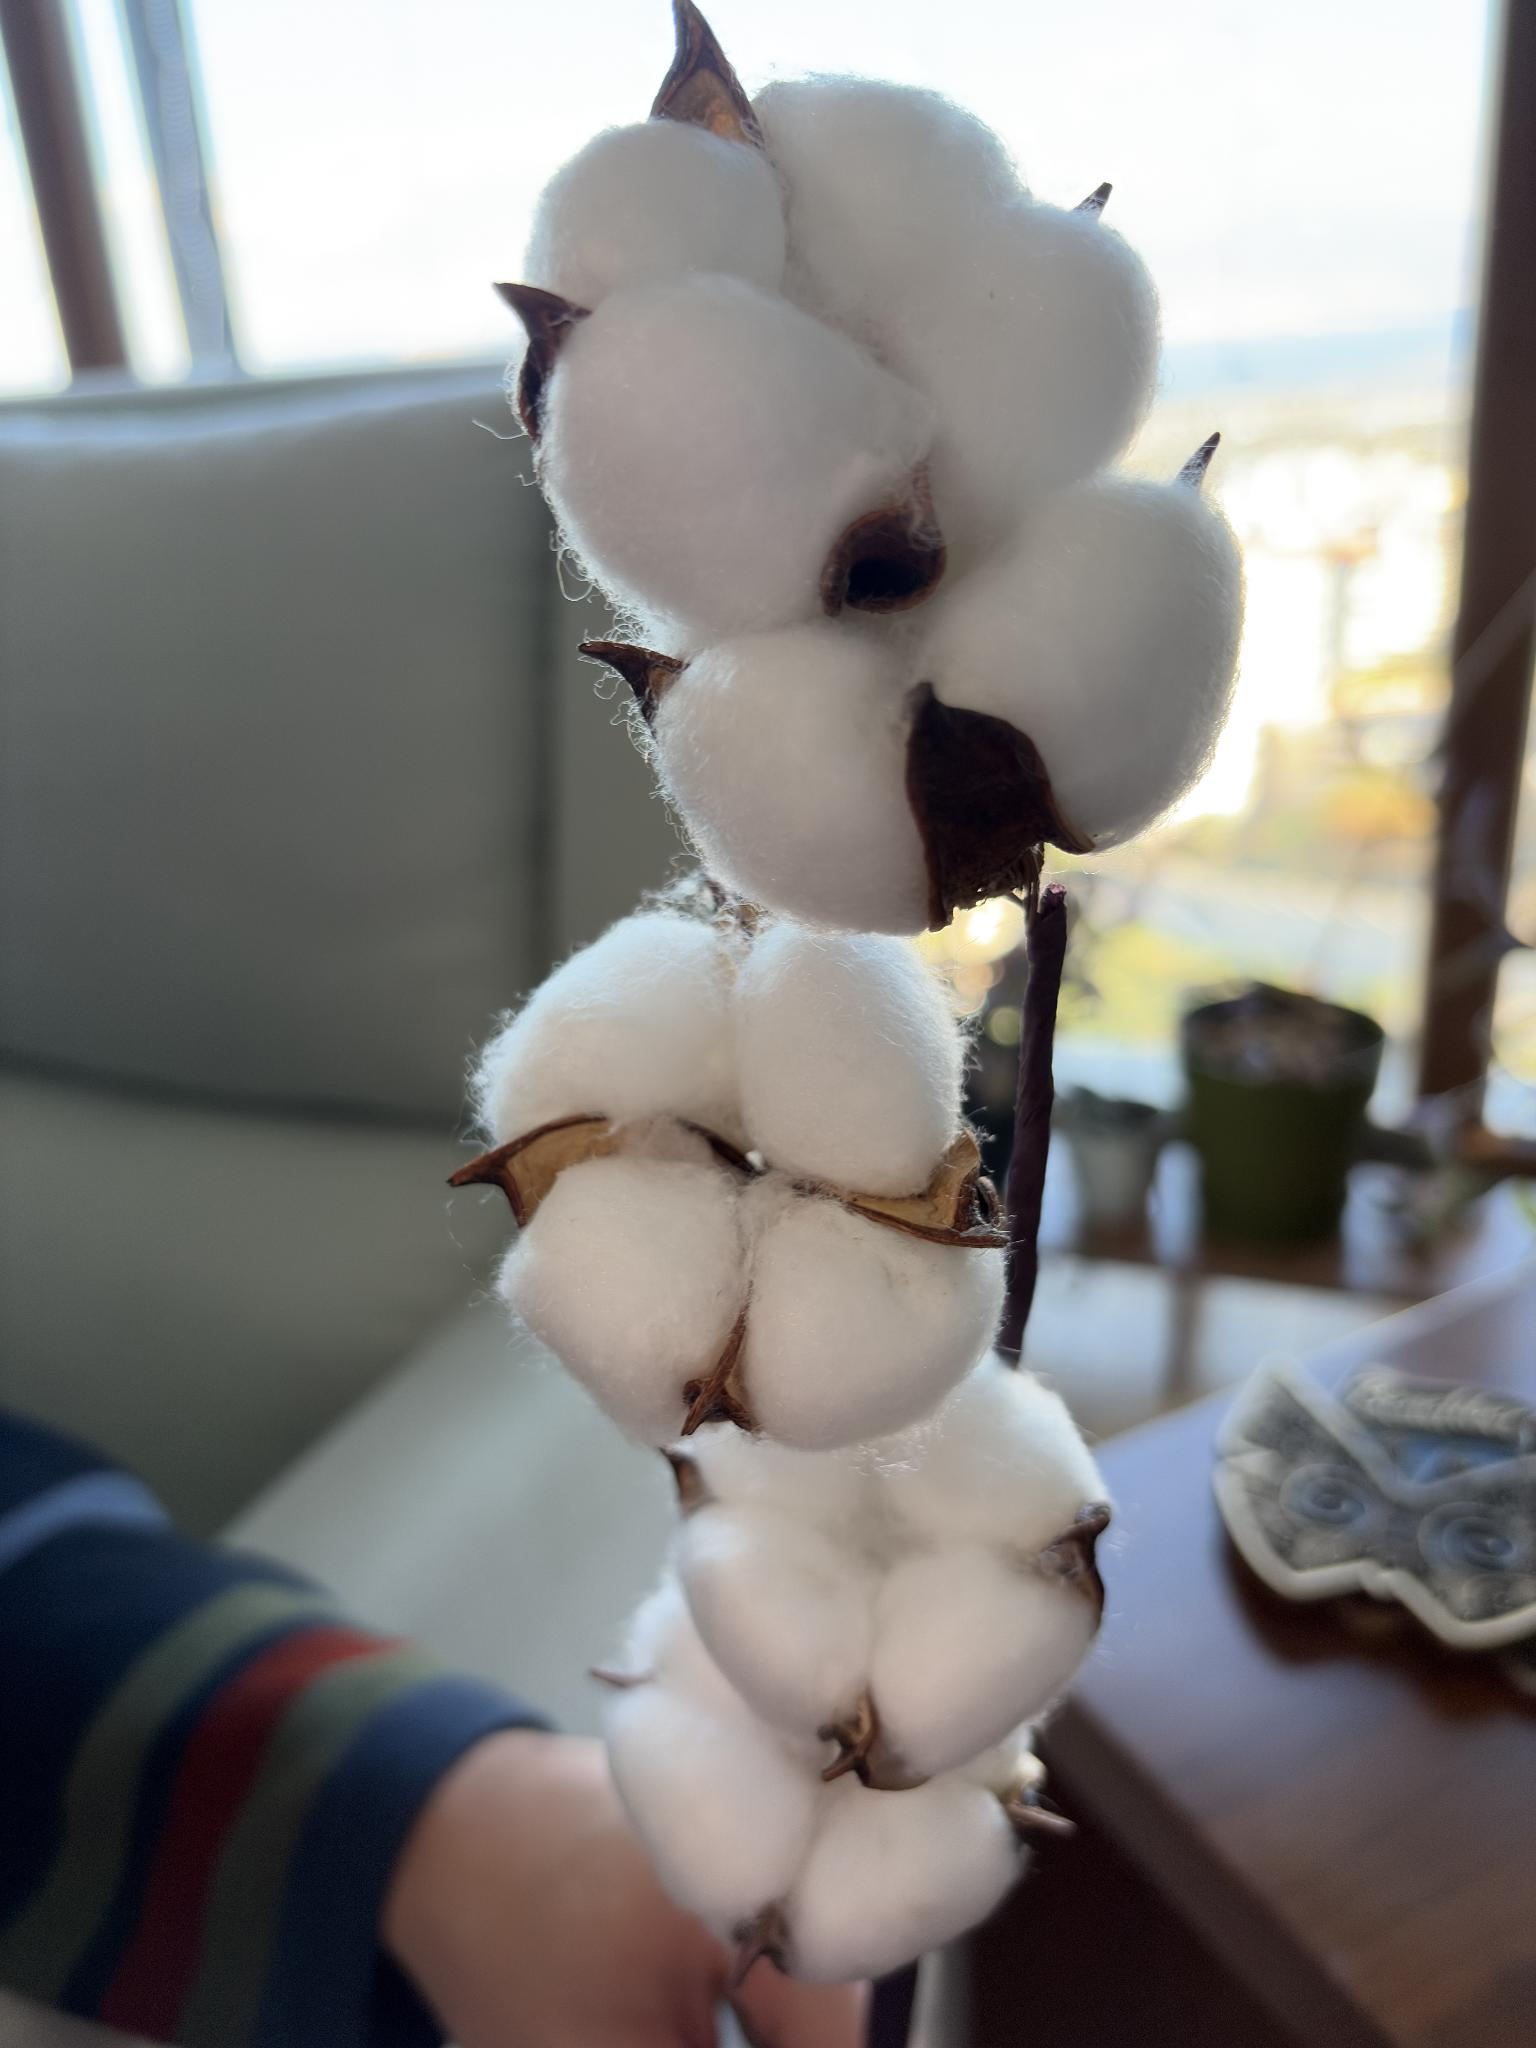cotton_boll: (537, 274, 936, 650), (916, 476, 1244, 845), (902, 202, 1158, 560), (652, 624, 929, 935), (753, 76, 1028, 363), (499, 1153, 745, 1445), (742, 1197, 1004, 1451), (473, 911, 747, 1150), (734, 922, 963, 1197), (868, 1545, 1097, 1775), (607, 1684, 815, 1935), (521, 119, 786, 310), (787, 1772, 1021, 1982), (871, 1358, 1107, 1556), (674, 1503, 876, 1734), (620, 1574, 758, 1730), (676, 1424, 866, 1532)
cotton_boll-cluster: (515, 55, 1262, 940), (457, 884, 1025, 1469), (607, 1516, 1073, 1983), (649, 1332, 1115, 1779)
